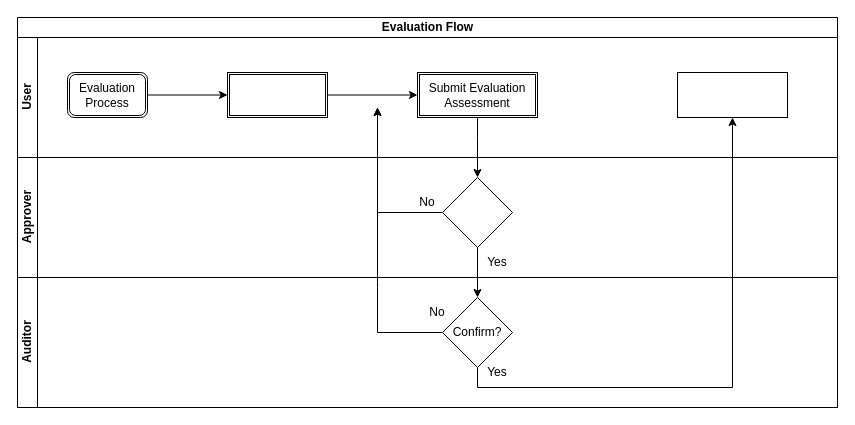
The diagram is 855 pixels wide and 425 high, and some of its shapes have lost their labels. The shapes that lost their labels are listed below. From the top down, each one's centre as x and y in pixels, then its label:
At (x=277, y=95): "Create Evaluation".
At (x=732, y=95): "Evaluation Complete.".
At (x=477, y=212): "Approve?".
